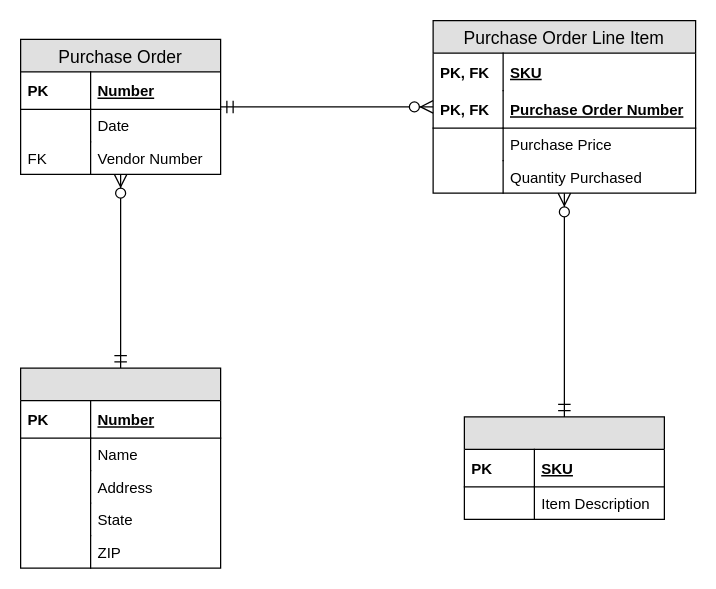
The diagram is 716 pixels wide and 589 high, and some of its shapes have lost their labels. The shapes that lost their labels are listed below. From the top down, each one's box as (x1, y1, x2, y2) in pixels, then its label:
(19, 367, 221, 568): Vendor
(463, 416, 664, 519): Inventory
